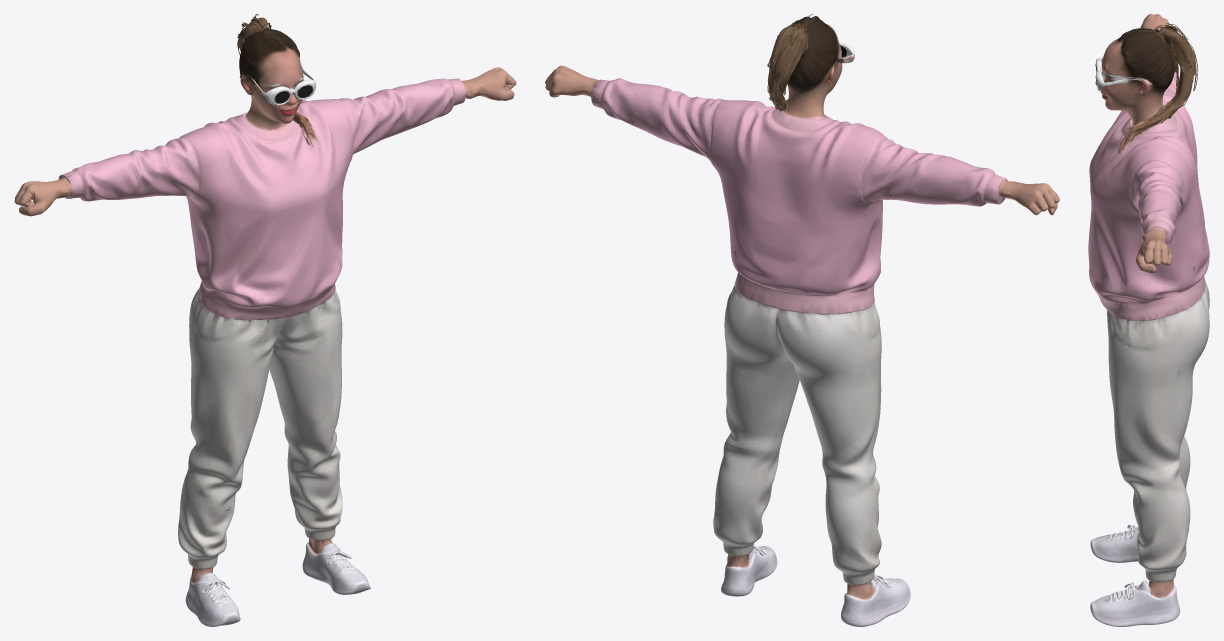
Rendered from candidate.glb.
3 views of the same model, side by side, from view 1: azimuth 30°, elevation 25°; view 2: azimuth 150°, elevation 25°; view 3: azimuth 270°, elevation 25° (orthographic). The views are drawn at different scales.
Visible parts, largest first — view 1: RoseBody; view 2: RoseBody; view 3: RoseBody.
Boxes of the visible parts, bbox=[...] form: RoseBody: bbox=[14, 14, 516, 626]; RoseBody: bbox=[545, 14, 1059, 626]; RoseBody: bbox=[1088, 14, 1209, 626].
Size of the model in its own units: 1.73 by 1.9 by 0.3692.
1 material, 1 textured.
